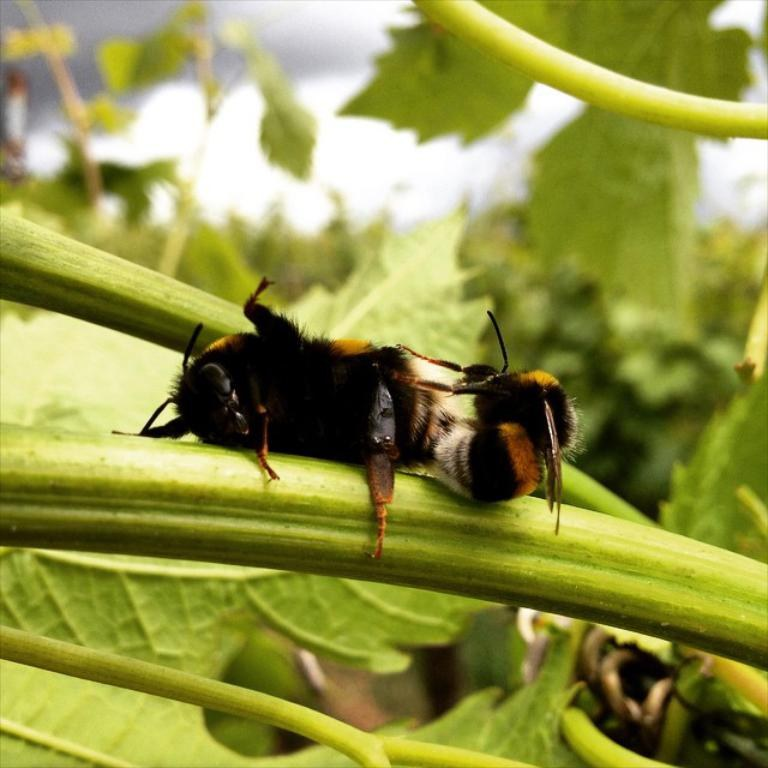bee: (115, 284, 463, 558), (421, 302, 586, 533), (566, 635, 670, 732)
